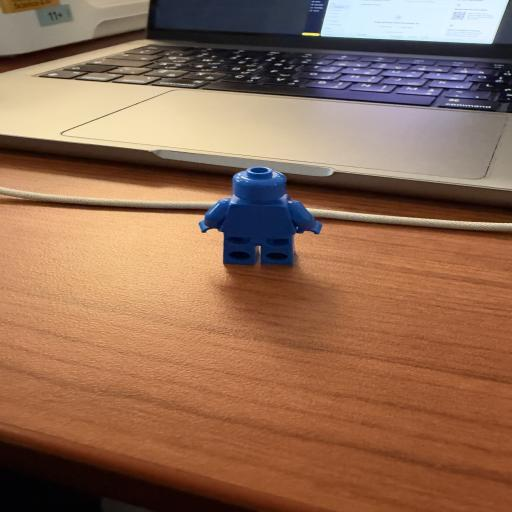Minifig: (198, 166, 322, 266)
